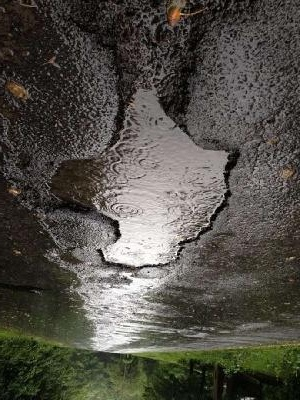pothole: (46, 91, 244, 275)
